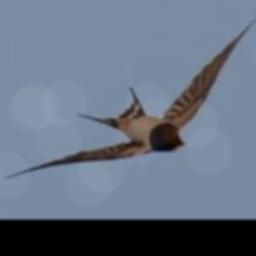Swallow: (3, 13, 256, 179)
